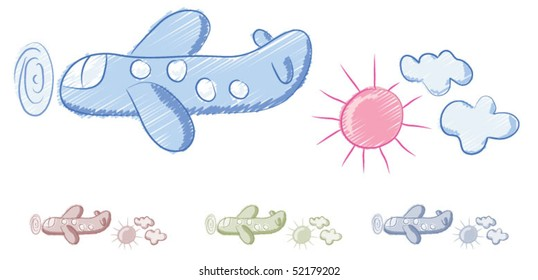airplane: (55, 6, 314, 155), (41, 203, 114, 248), (215, 204, 290, 245), (383, 203, 454, 245)
cloud: (439, 96, 523, 156), (399, 49, 480, 97)
sun: (312, 53, 432, 176)
